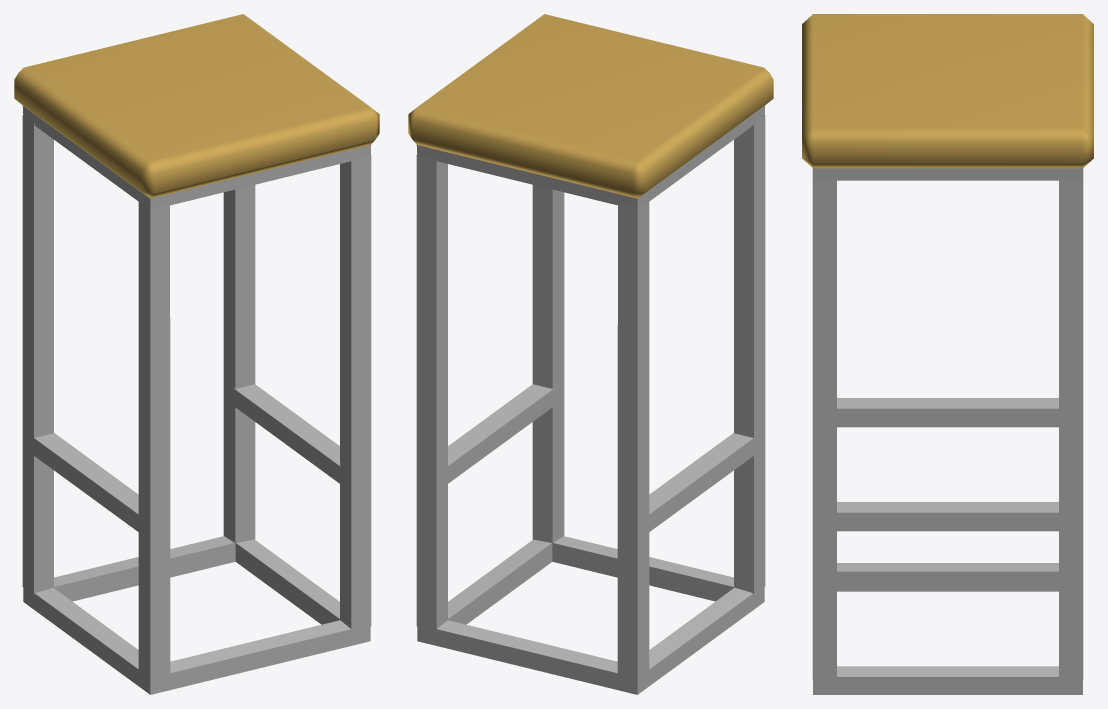
Rendered from chair_043.fbx.
3 views of the same model, side by side, from view 1: azimuth 30°, elevation 25°; view 2: azimuth 150°, elevation 25°; view 3: azimuth 270°, elevation 25° (orthographic). The views are drawn at different scales.
Parts seen in each view (by area): view 1: chair_043; view 2: chair_043; view 3: chair_043.
Boxes of the visible parts, x1,y1,x2,y2 form: chair_043: (14, 14, 379, 694); chair_043: (408, 14, 773, 694); chair_043: (802, 14, 1093, 694).
Bounding box in the file's own units: 47.26 × 47.25 × 101.
